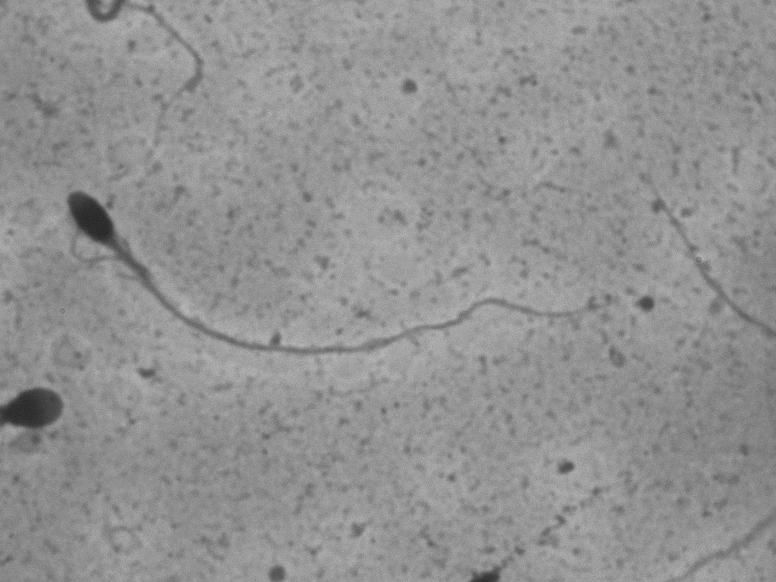Normal: (53, 173, 630, 363)
